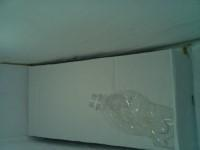bottle: (87, 88, 178, 150)
